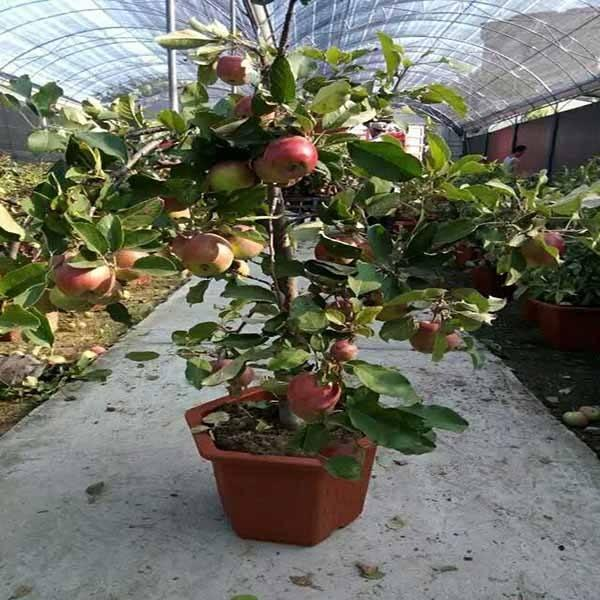apple: (252, 137, 317, 186), (180, 232, 235, 275), (289, 371, 339, 418), (53, 260, 114, 296), (204, 160, 254, 192), (411, 318, 457, 352), (525, 233, 564, 265), (217, 55, 247, 86), (329, 339, 357, 362)
